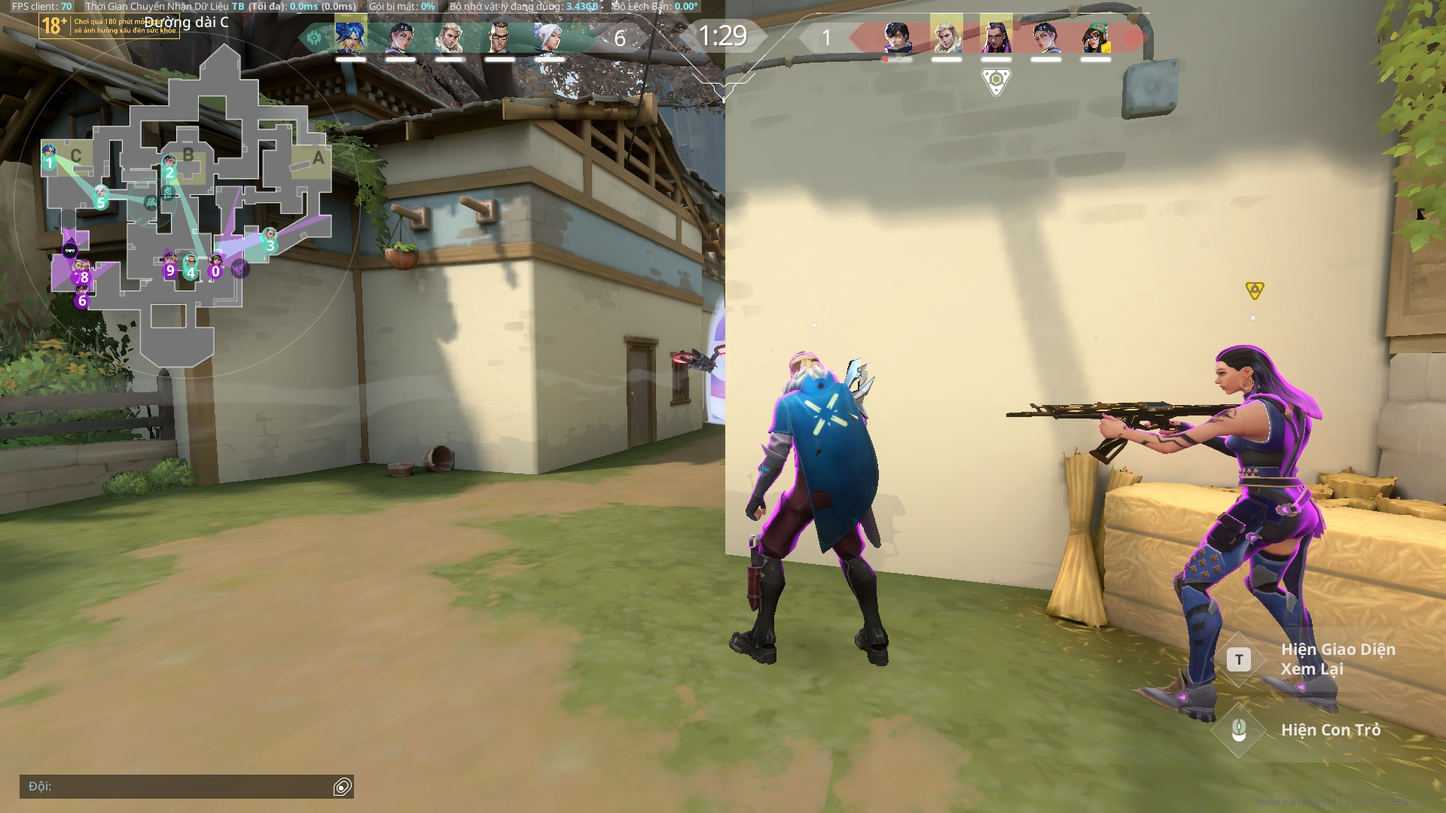body: (765, 379, 874, 465), (1231, 390, 1316, 486)
head: (1210, 341, 1265, 400), (786, 347, 827, 386)
